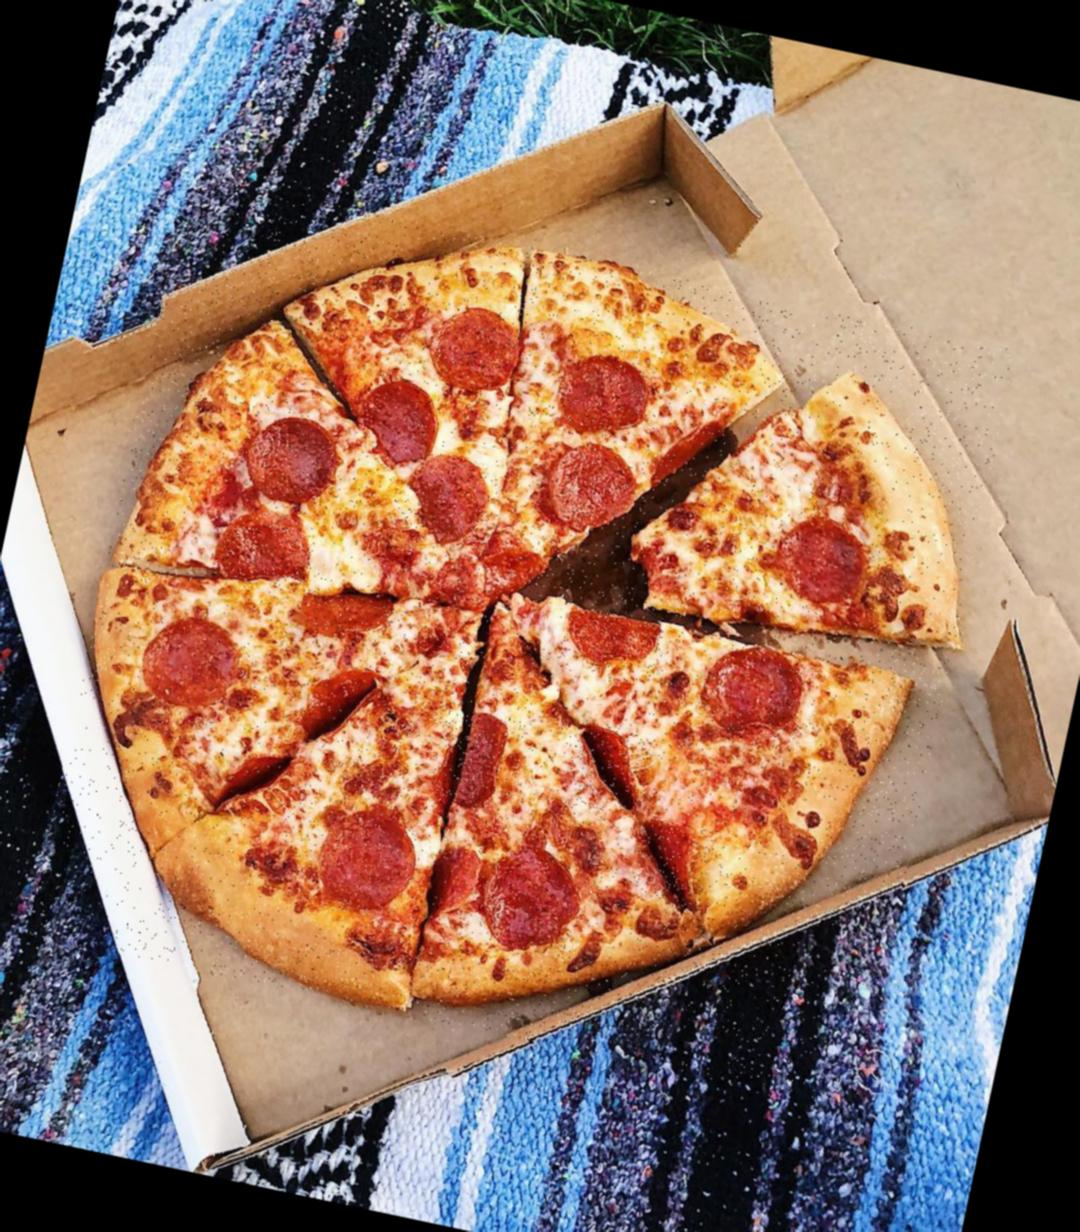Pepperoni: (308, 800, 426, 924), (473, 843, 589, 960), (699, 638, 809, 748), (141, 609, 247, 712), (242, 411, 343, 509), (771, 514, 875, 609), (397, 461, 498, 556), (214, 505, 319, 595), (564, 719, 657, 819), (425, 709, 509, 815), (627, 812, 715, 911), (427, 305, 523, 394), (557, 353, 655, 440), (550, 441, 641, 533), (354, 374, 445, 465), (300, 659, 383, 752), (559, 604, 665, 678), (297, 579, 398, 654), (211, 740, 296, 826)
Pizza: (27, 175, 1017, 1112)
